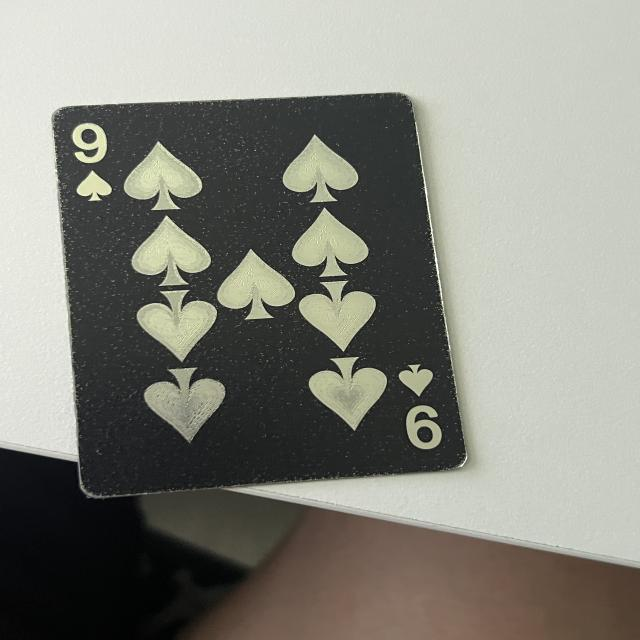9S: (57, 117, 120, 206), (394, 362, 448, 455)
